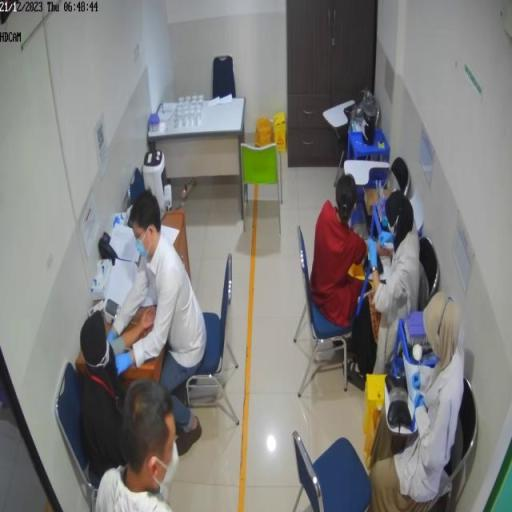person: (108, 190, 208, 460), (370, 293, 465, 512), (347, 191, 421, 393), (81, 308, 157, 483), (312, 174, 392, 328), (97, 379, 179, 512)
